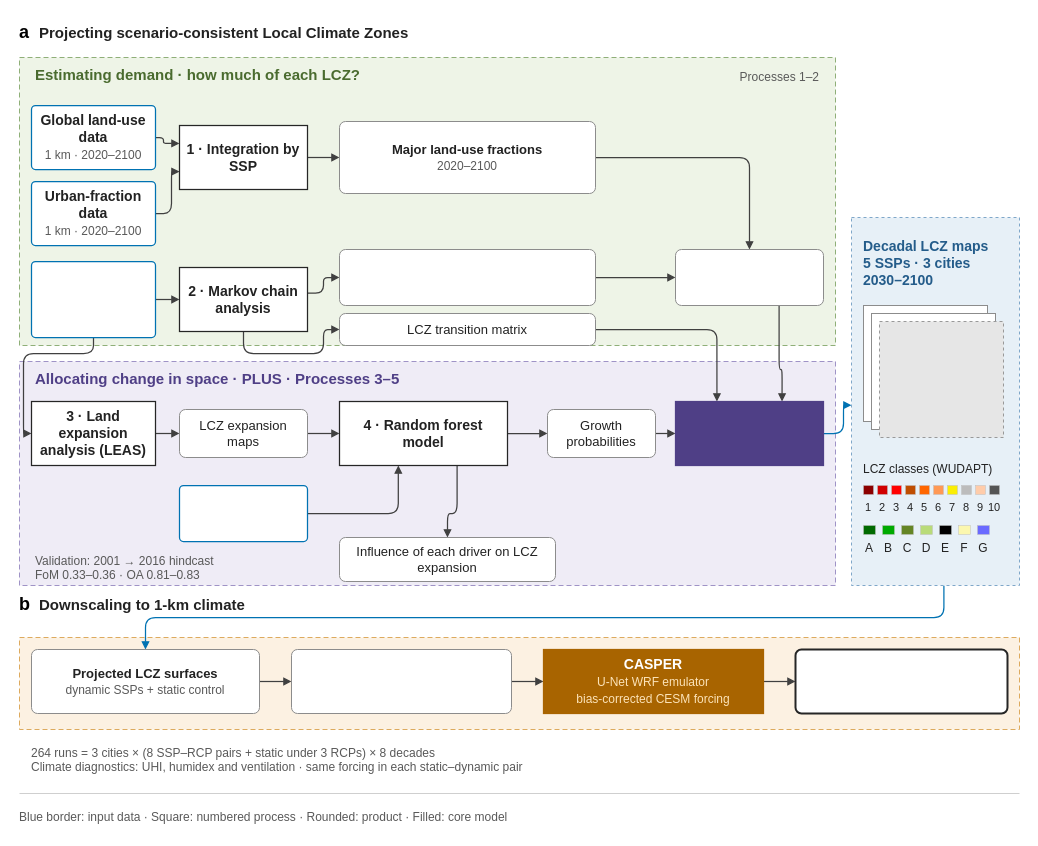
Image size: 1038x846. Some labels were removed from this diagram. Grey dashed boxes stand in for pictures. Each missing label, with the box of its shape:
1-km fields · 6-hourly T2 · skin temperature · humidity · wind: (794, 648, 1008, 714)
5 · Cellular automaton with random patch seeds: (674, 400, 824, 466)
Driving factors 25 variables · GeoIndex: (178, 484, 308, 542)
Historical LCZ maps 100 m · 1986–2016: (30, 260, 156, 338)
LCZ demand projections: (674, 248, 824, 306)
Projected LCZ composition within each major land-use category: (338, 248, 596, 306)
Surface parameters WUDAPT → WRF (w2w): (290, 648, 512, 714)
